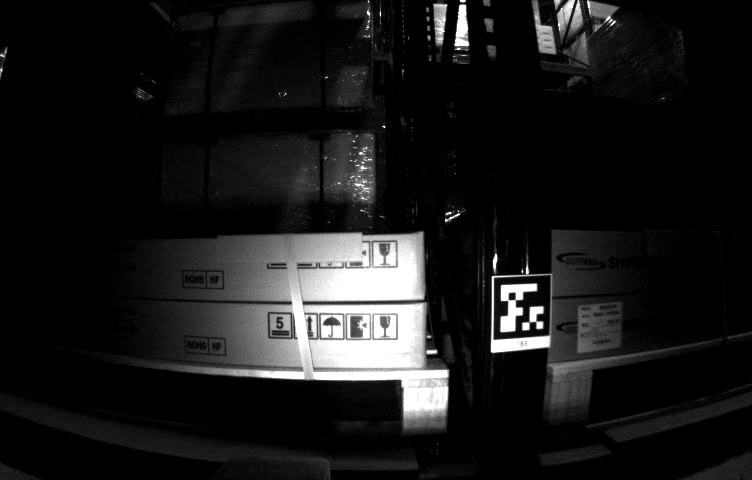True Barcode: (576, 304, 623, 351)
